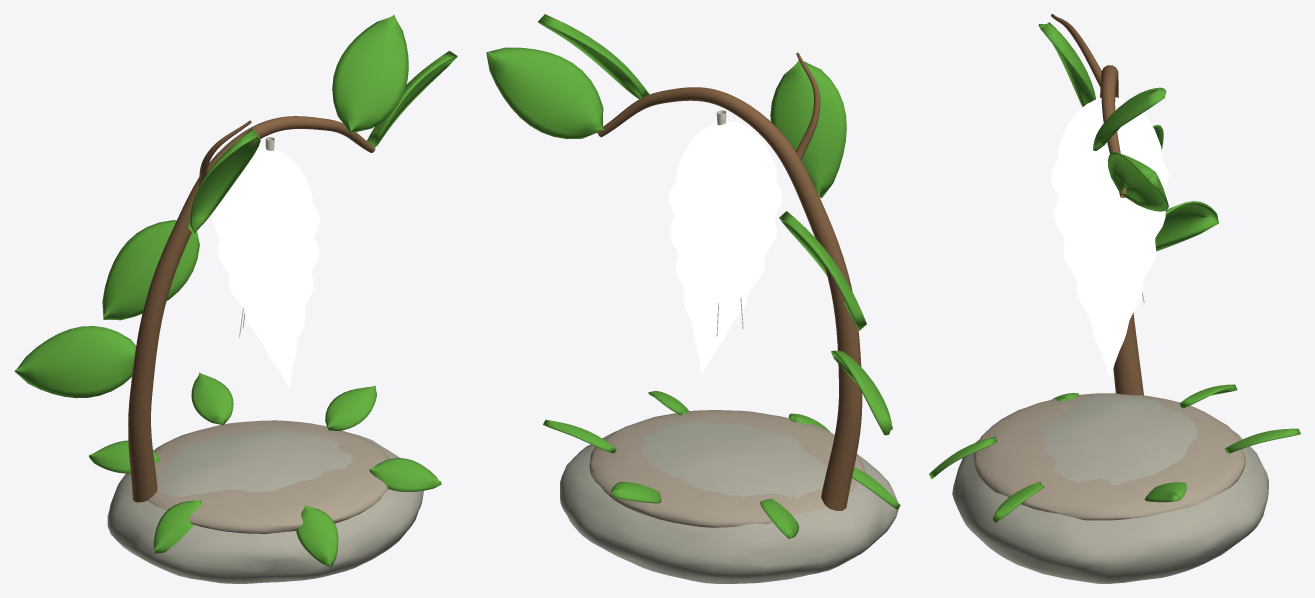
File: RaidEgg.glb
3 renders of one model, left to right at view 1: azimuth 30°, elevation 25°; view 2: azimuth 150°, elevation 25°; view 3: azimuth 270°, elevation 25°, orthographic. The views are drawn at different scales.
Visible parts, largest first — view 1: Rock, Cocoon, MossCap, Branch, Leaf2, Leaf0, Leaf4, Leaf3, GLeaf4, GLeaf5, GLeaf0, GLeaf1 (+3 smaller); view 2: Rock, Cocoon, MossCap, Branch, Leaf1, Leaf3, Leaf2, Leaf4, Leaf0, GLeaf1, GLeaf2, Twiglet (+2 smaller); view 3: Rock, Cocoon, MossCap, Branch, Leaf1, Leaf0, Leaf3, Leaf2, GLeaf1, GLeaf0, GLeaf5, Twiglet (+2 smaller).
Part boxes in pixels (x1,y1,x2,y2): Rock: (107, 430, 423, 583); Cocoon: (212, 147, 319, 387); MossCap: (148, 420, 389, 533); Branch: (128, 116, 375, 502); Leaf2: (332, 14, 408, 133); Leaf0: (14, 326, 136, 398); Leaf4: (102, 220, 199, 320); Leaf3: (187, 128, 260, 233); GLeaf4: (296, 505, 338, 567); GLeaf5: (369, 458, 441, 491); GLeaf0: (325, 385, 376, 430); GLeaf1: (191, 372, 233, 425); Rock: (560, 420, 898, 583); Cocoon: (669, 121, 782, 374); MossCap: (589, 410, 865, 527); Branch: (597, 87, 862, 510); Leaf1: (486, 47, 603, 138); Leaf3: (770, 60, 846, 198); Leaf2: (538, 14, 649, 99); Leaf4: (779, 211, 866, 330); Leaf0: (831, 350, 892, 435); GLeaf1: (611, 482, 661, 503); GLeaf2: (760, 498, 798, 538); Twiglet: (795, 52, 820, 160); Rock: (952, 394, 1268, 583); Cocoon: (1051, 97, 1168, 379); MossCap: (974, 393, 1245, 520); Branch: (1100, 65, 1143, 395); Leaf1: (1107, 152, 1168, 211); Leaf0: (1155, 201, 1218, 251); Leaf3: (1038, 22, 1095, 106); Leaf2: (1093, 87, 1166, 150); GLeaf1: (1224, 428, 1300, 453); GLeaf0: (1144, 482, 1186, 502); GLeaf5: (992, 481, 1044, 523); Twiglet: (1051, 14, 1101, 86).
Size of the model in its own units: 3.62 by 4.09 by 2.58.
